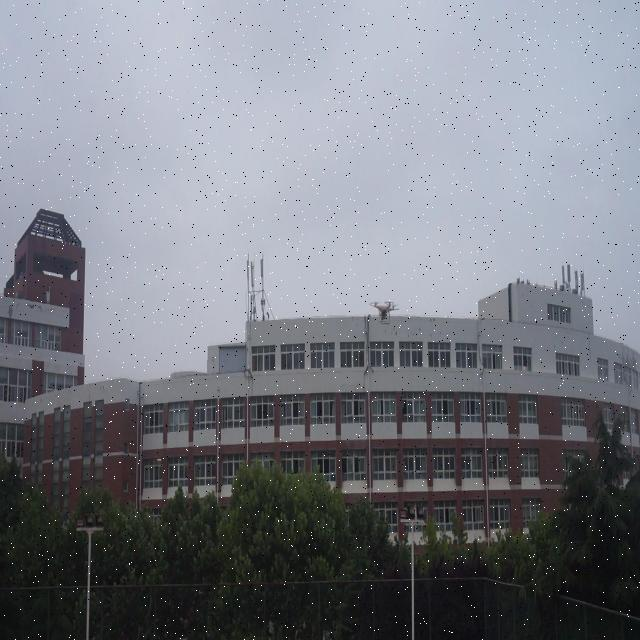UAV: (369, 302, 399, 324)
